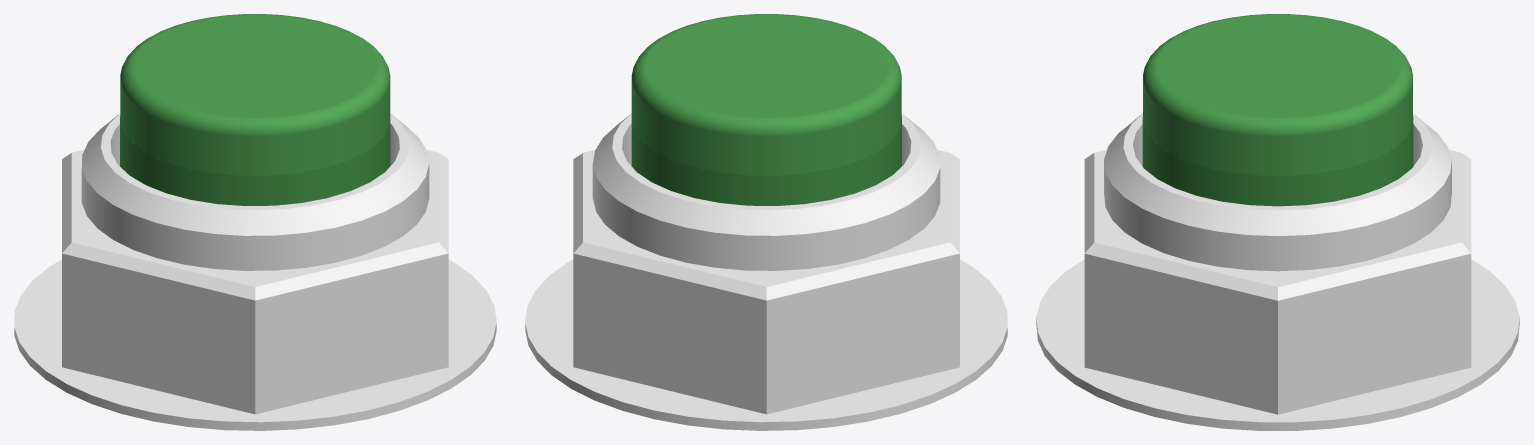
File: button-2.obj
The picture shows the model from 3 angles, left to right: view 1: azimuth 30°, elevation 25°; view 2: azimuth 150°, elevation 25°; view 3: azimuth 270°, elevation 25°; orthographic projection.
Parts seen in each view (by area): view 1: Body, Body4, Body3; view 2: Body, Body4, Body3; view 3: Body, Body4, Body3.
Boxes of the visible parts, box(x1,y1,x2,y2) form: Body: box(14, 113, 496, 430); Body4: box(120, 14, 390, 175); Body3: box(120, 116, 390, 205); Body: box(525, 113, 1007, 430); Body4: box(631, 14, 901, 175); Body3: box(631, 116, 901, 205); Body: box(1036, 113, 1519, 430); Body4: box(1143, 14, 1412, 175); Body3: box(1142, 116, 1413, 206).
Bounding box in the file's own units: 4.99 × 3 × 5.
